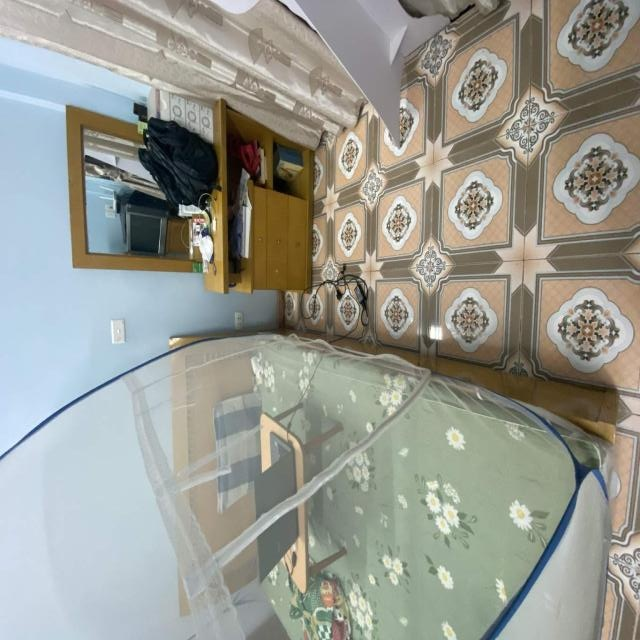outlet: (234, 312, 243, 329)
